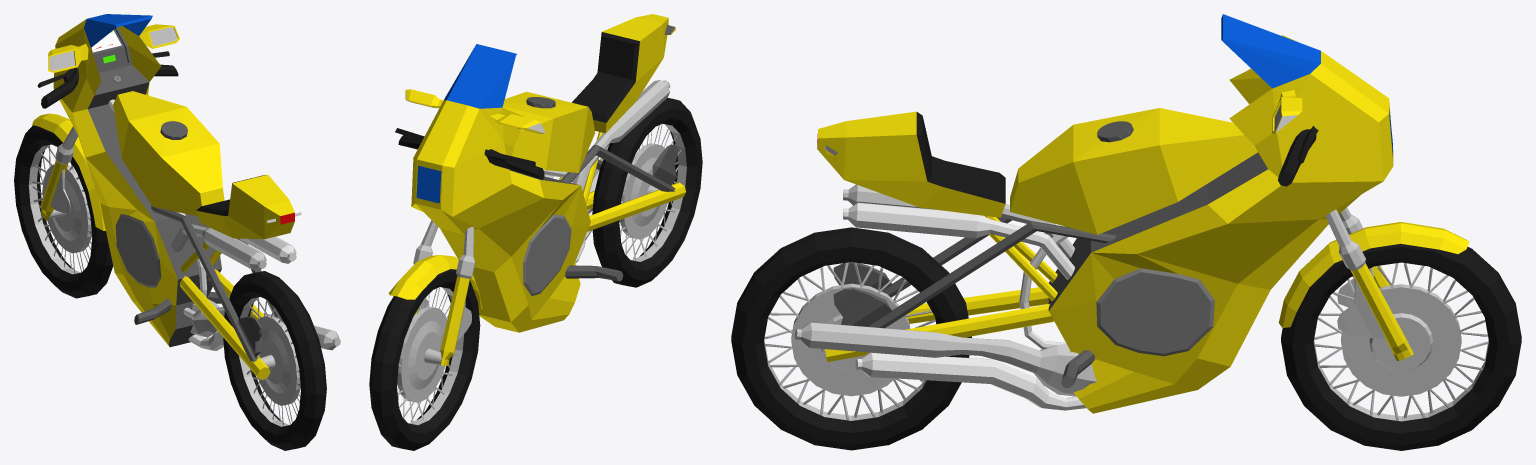
Rendered from bik2e.fbx.
3 renders of one model, left to right at view 1: azimuth 30°, elevation 25°; view 2: azimuth 150°, elevation 25°; view 3: azimuth 270°, elevation 25°, orthographic. The views are drawn at different scales.
Visible parts, largest first — view 1: Cube, Circle.003, Circle.001, Cylinder.005, Cylinder.008, Cube.002, Cylinder.007, Cylinder.006, Cylinder.003, Cylinder, Cube.001, Circle.000 (+4 smaller); view 2: Cube, Circle.001, Circle.003, Cylinder.007, Cube.002, Cylinder.005, Cylinder.008, Cylinder.006, Cylinder.003, Cylinder.004, Circle.002, Circle.000; view 3: Cube, Circle.001, Circle.003, Cylinder, Cylinder.005, Cylinder.008, Cylinder.001, Cylinder.007, Cube.001, Cylinder.006, Circle.000, Circle.002 (+3 smaller).
Boxes of the visible parts, bbox=[...] form: Cube: bbox=[48, 14, 301, 347]; Circle.003: bbox=[223, 271, 326, 450]; Circle.001: bbox=[14, 125, 113, 298]; Cylinder.005: bbox=[151, 205, 284, 361]; Cylinder.008: bbox=[179, 241, 270, 379]; Cube.002: bbox=[171, 224, 266, 270]; Cylinder.007: bbox=[41, 126, 77, 220]; Cylinder.006: bbox=[32, 113, 105, 230]; Cylinder.003: bbox=[37, 51, 178, 108]; Cylinder: bbox=[190, 299, 340, 350]; Cube.001: bbox=[201, 226, 296, 263]; Circle.000: bbox=[32, 145, 91, 272]; Cube: bbox=[405, 14, 675, 332]; Circle.001: bbox=[369, 269, 480, 450]; Circle.003: bbox=[592, 98, 702, 287]; Cylinder.007: bbox=[413, 220, 475, 365]; Cube.002: bbox=[573, 80, 670, 191]; Cylinder.005: bbox=[560, 144, 677, 191]; Cylinder.008: bbox=[559, 132, 685, 231]; Cylinder.006: bbox=[388, 255, 482, 308]; Cylinder.003: bbox=[395, 128, 544, 179]; Cylinder.004: bbox=[565, 265, 623, 281]; Circle.002: bbox=[620, 123, 681, 260]; Circle.000: bbox=[397, 287, 458, 423]; Cube: bbox=[817, 14, 1393, 413]; Circle.001: bbox=[1281, 243, 1521, 450]; Circle.003: bbox=[731, 227, 971, 450]; Cylinder: bbox=[794, 322, 1097, 396]; Cylinder.005: bbox=[833, 217, 1116, 328]; Cylinder.008: bbox=[825, 215, 1057, 361]; Cylinder.001: bbox=[855, 352, 1086, 410]; Cylinder.007: bbox=[1326, 207, 1413, 360]; Cube.001: bbox=[843, 202, 1074, 279]; Cylinder.006: bbox=[1278, 222, 1469, 327]; Circle.000: bbox=[1314, 263, 1488, 420]; Circle.002: bbox=[764, 262, 935, 420].
Size of the model in its own units: 2890 by 1703 by 745.
